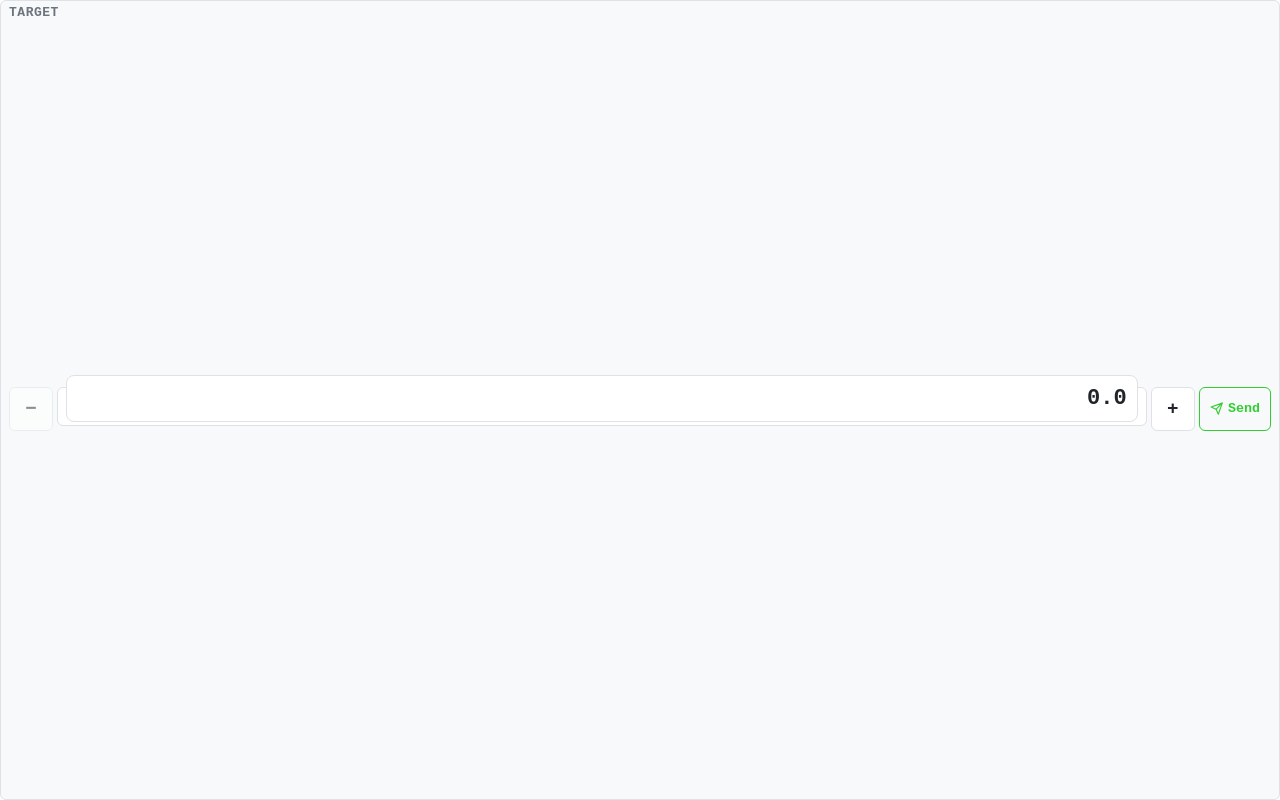
Test: value components › sends a setpoint when asked, typed for its field
Click the button named "Increase Target": [1173, 409] box [1151,387,1195,431]
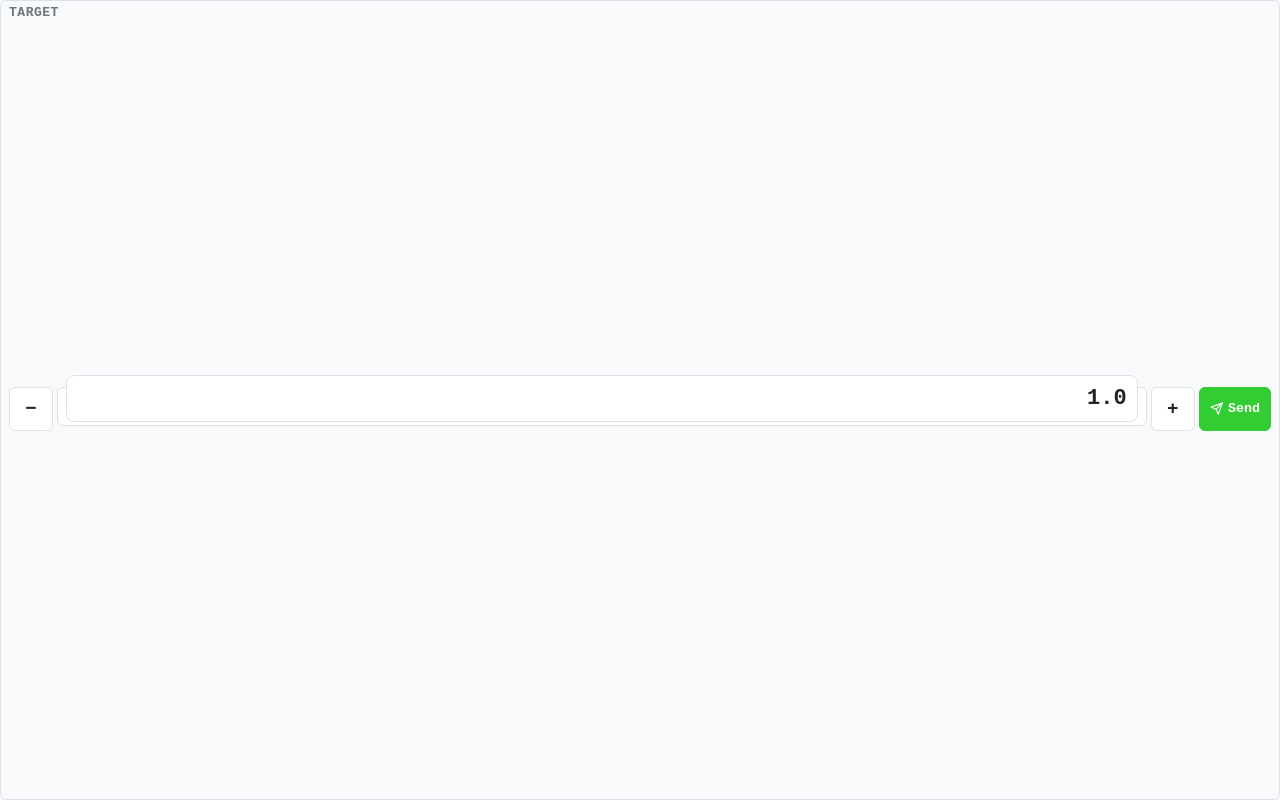
Click the button named "Increase Target": [1173, 409] box [1151,387,1195,431]
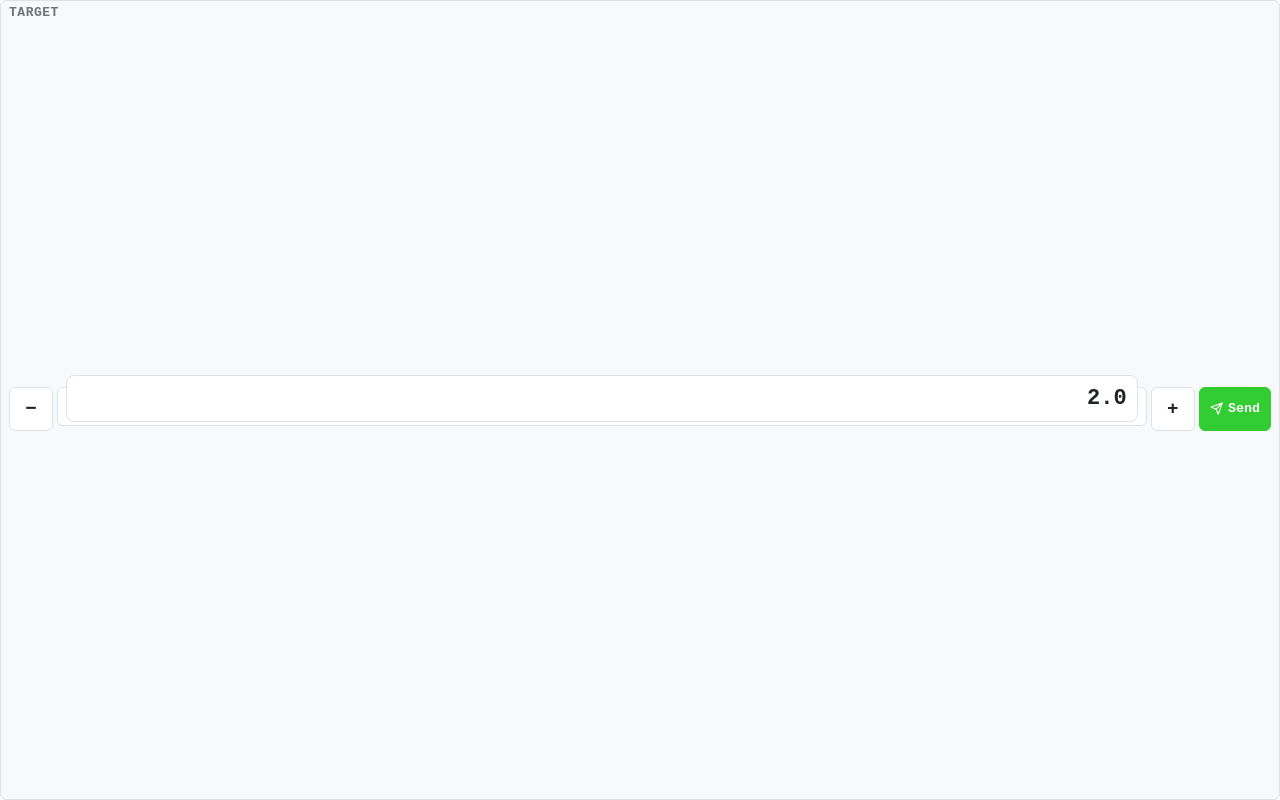
Click the button with aria-label "Send Target": [1235, 409] box [1199,387,1271,431]
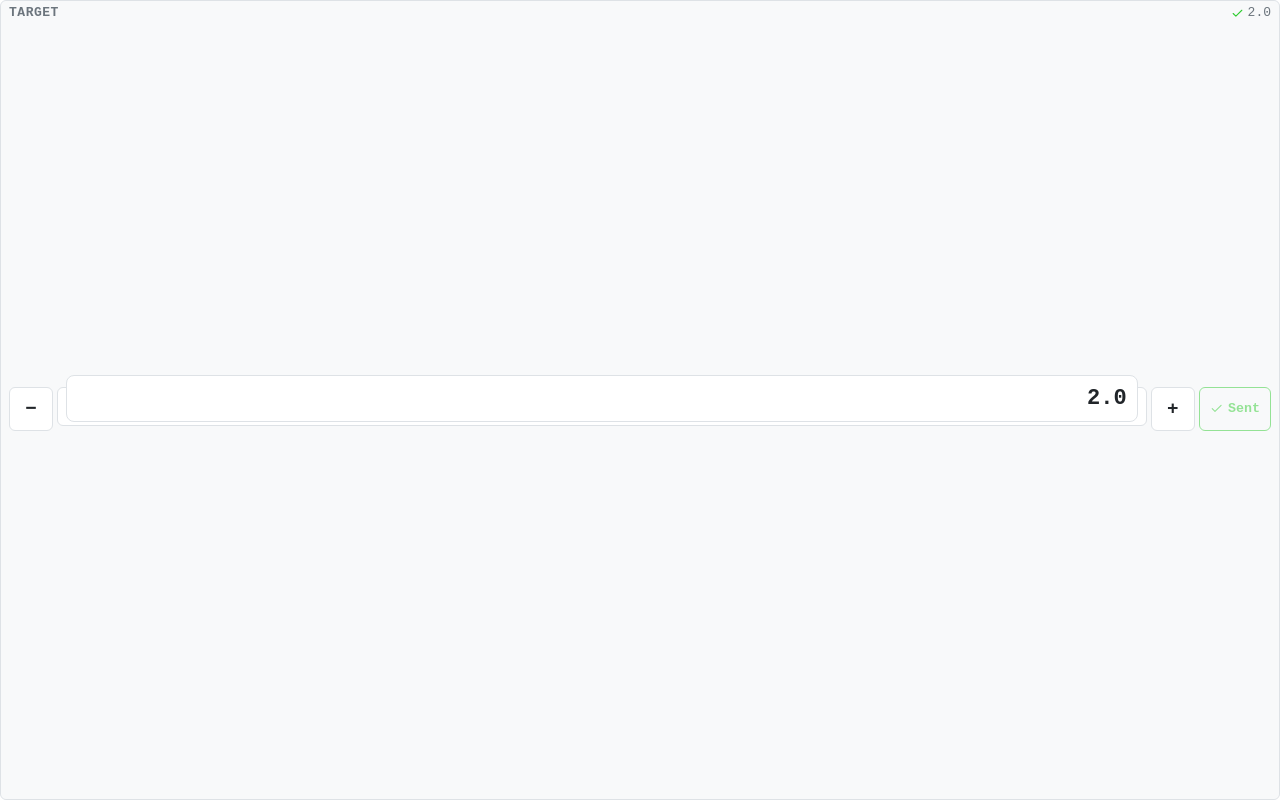
Replace the text in the number field named "Target value" with "7.6": [602, 399] box [66,376,1138,422]
Press Enter in the number field named "Target value", box [66,376,1138,422]
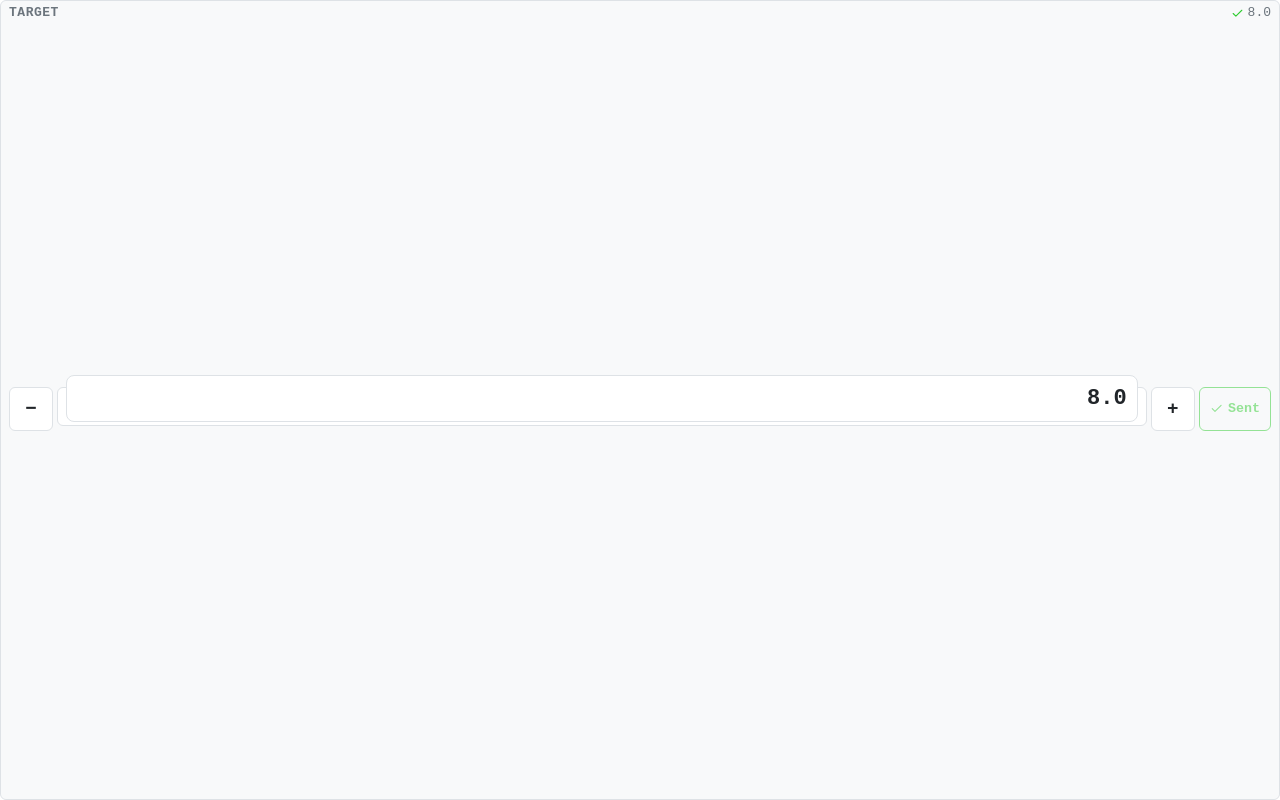
Expected: the number field named "Target value" holds "8"
Replace the text in the number field named "Target value" with "99": [602, 399] box [66,376,1138,422]
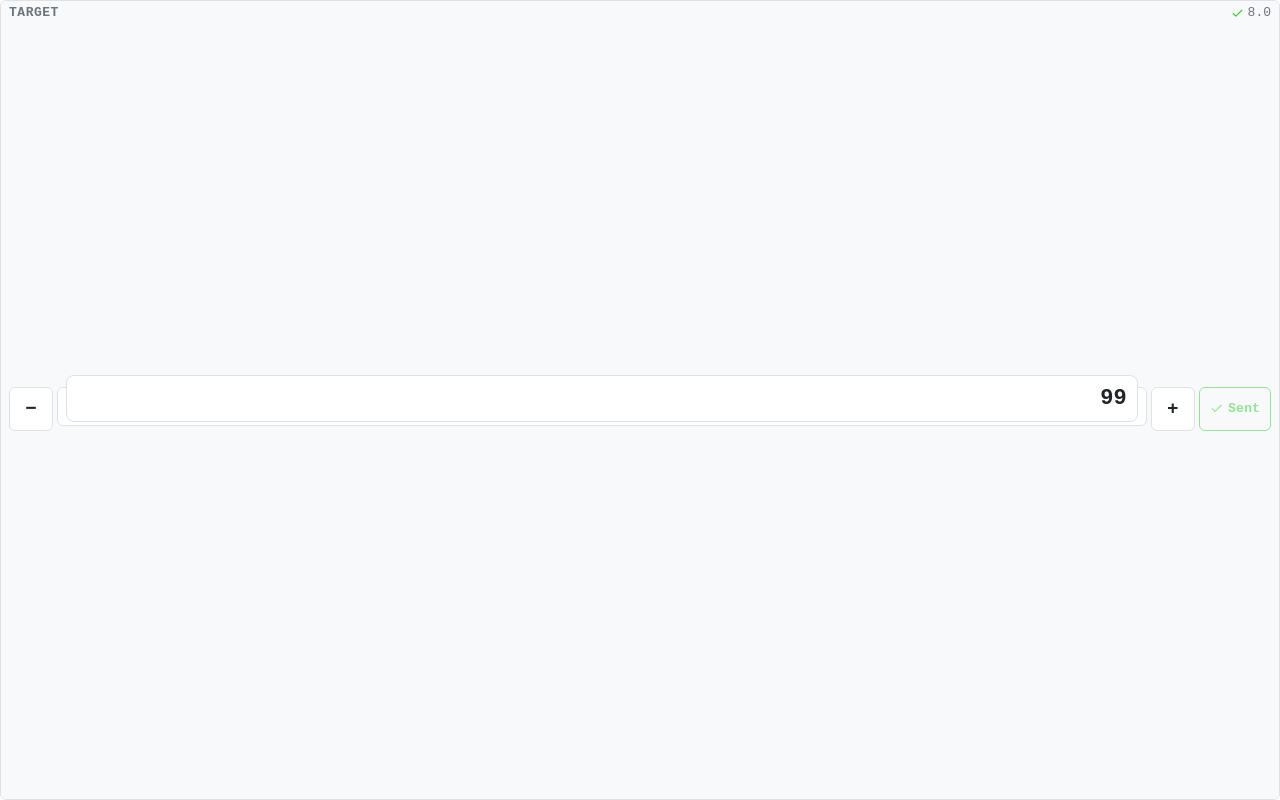
Leave the number field named "Target value", box [66,376,1138,422]
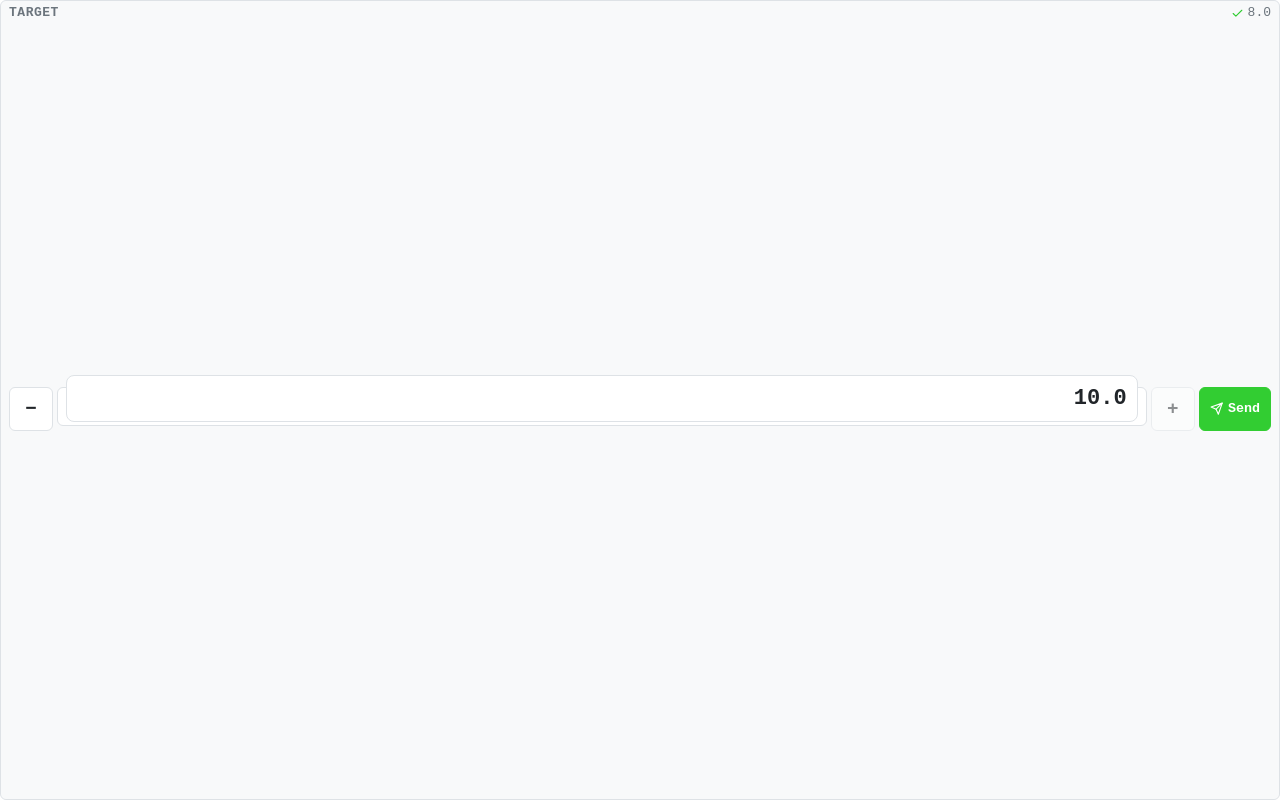
Expected: the number field named "Target value" holds "10", [66,376,1138,422]
Expected: the button named "Increase Target" is disabled, [1151,387,1195,431]
